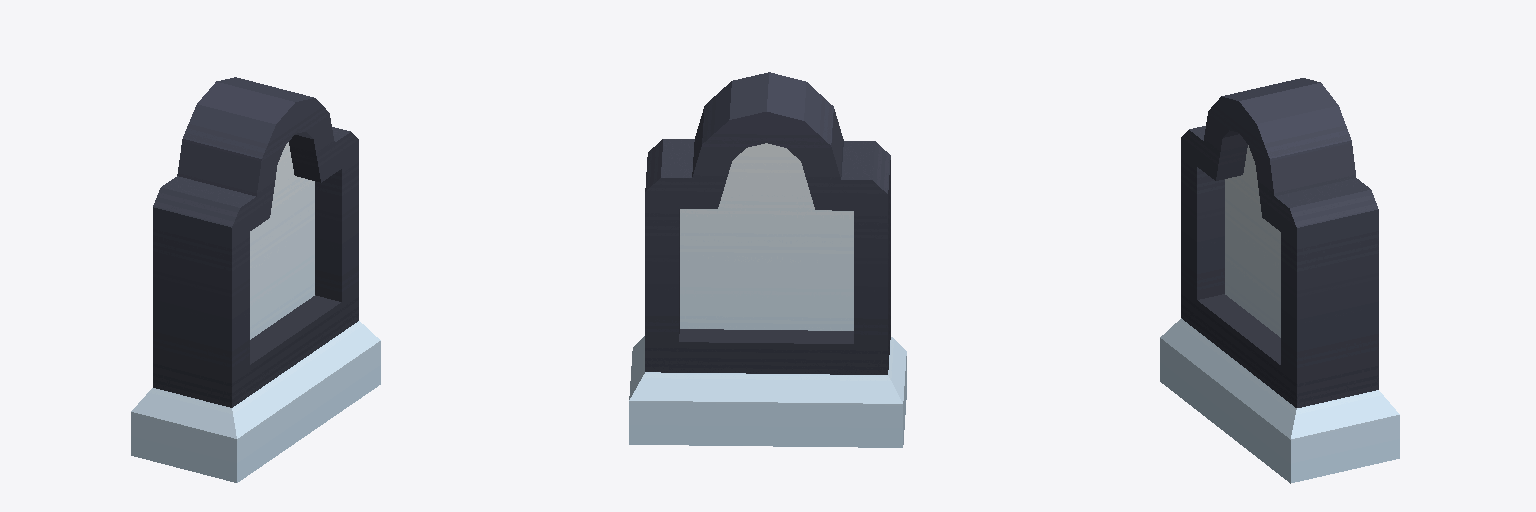
3 views of the same model, side by side, from view 1: azimuth 30°, elevation 25°; view 2: azimuth 150°, elevation 25°; view 3: azimuth 270°, elevation 25° (orthographic).
Visible parts, largest first — view 1: gravestone-bevel; view 2: gravestone-bevel; view 3: gravestone-bevel.
Boxes of the visible parts, x1=… form: gravestone-bevel: x1=131, y1=77, x2=380, y2=482; gravestone-bevel: x1=629, y1=72, x2=906, y2=447; gravestone-bevel: x1=1160, y1=78, x2=1399, y2=483.
Size of the model in its own units: 1.18 by 1.42 by 0.9427.
Materials: 1 (1 with a texture image).